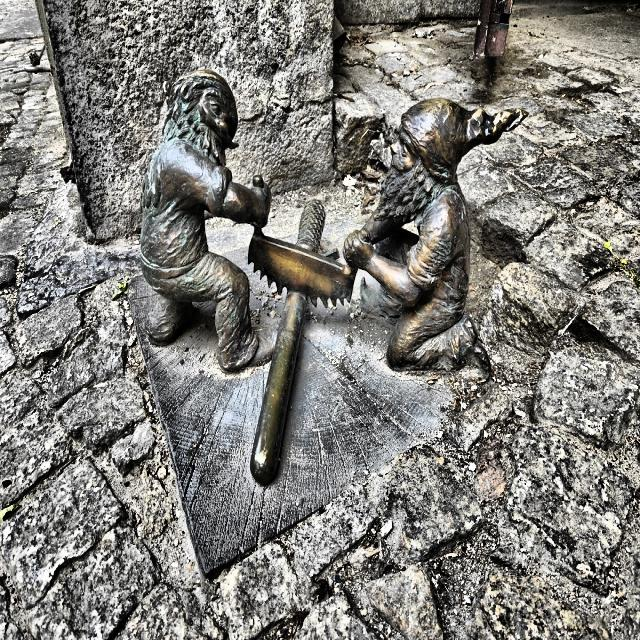Wyrostek i Zadymek: (141, 70, 526, 483)
